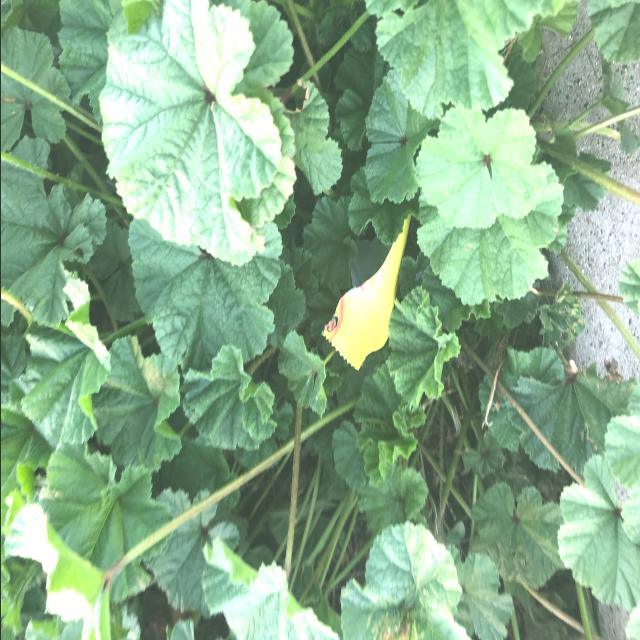Other plastic: (323, 208, 410, 372)
